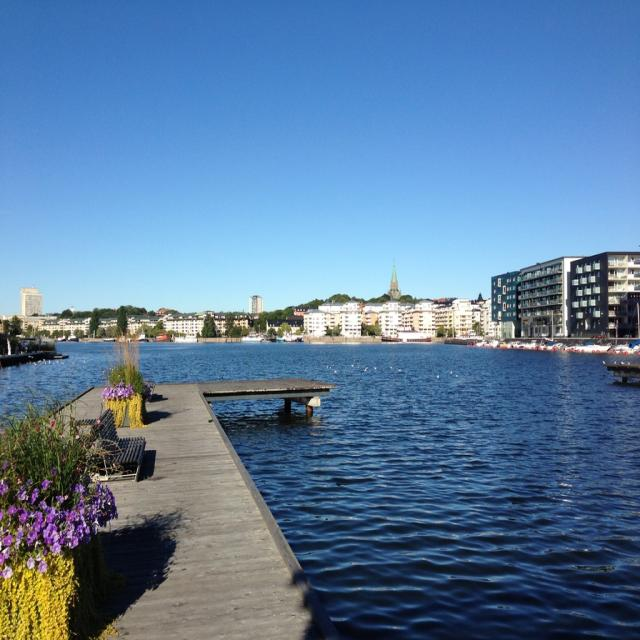Boat: (473, 337, 640, 356)
